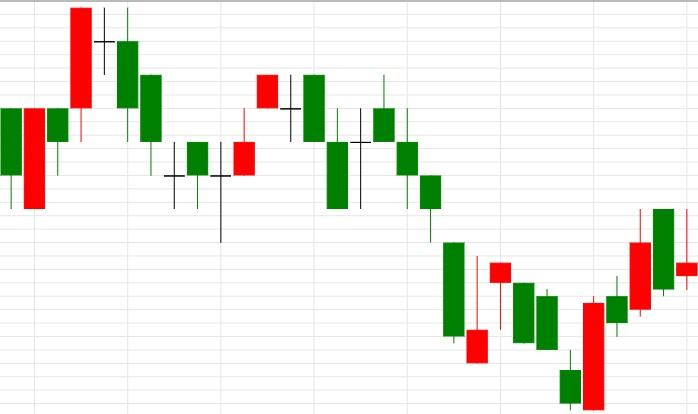bullish_engulfing_rise: (489, 261, 605, 411)
inverse_hammer_rise: (373, 75, 489, 365)
morning_star_rise: (69, 6, 256, 243)
three_black_crows_fall: (326, 74, 442, 243)
